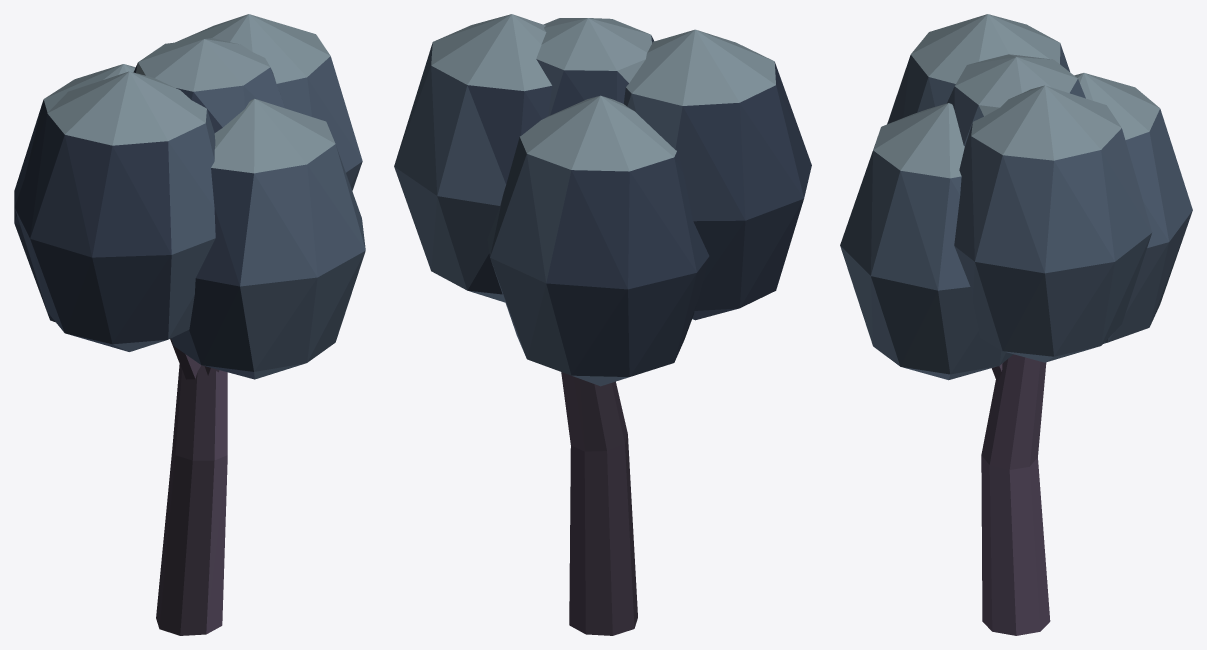
The model's file is TW_TREE_ROUND_SMALL_B_LOD0.glb.
3 renders of one model, left to right at view 1: azimuth 30°, elevation 25°; view 2: azimuth 150°, elevation 25°; view 3: azimuth 270°, elevation 25°, orthographic. The views are drawn at different scales.
Visible parts, largest first — view 1: TW_TREE_ROUND_SMALL_B_LOD0; view 2: TW_TREE_ROUND_SMALL_B_LOD0; view 3: TW_TREE_ROUND_SMALL_B_LOD0.
Part boxes in pixels (x1,y1,x2,y2): TW_TREE_ROUND_SMALL_B_LOD0: (14, 14, 365, 635); TW_TREE_ROUND_SMALL_B_LOD0: (394, 14, 811, 635); TW_TREE_ROUND_SMALL_B_LOD0: (840, 14, 1192, 635).
Size of the model in its own units: 2.1 by 3.3 by 1.85.
1 material, 1 textured.
